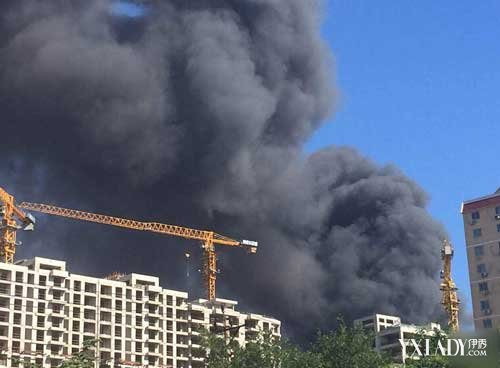smoke: (12, 13, 458, 304)
